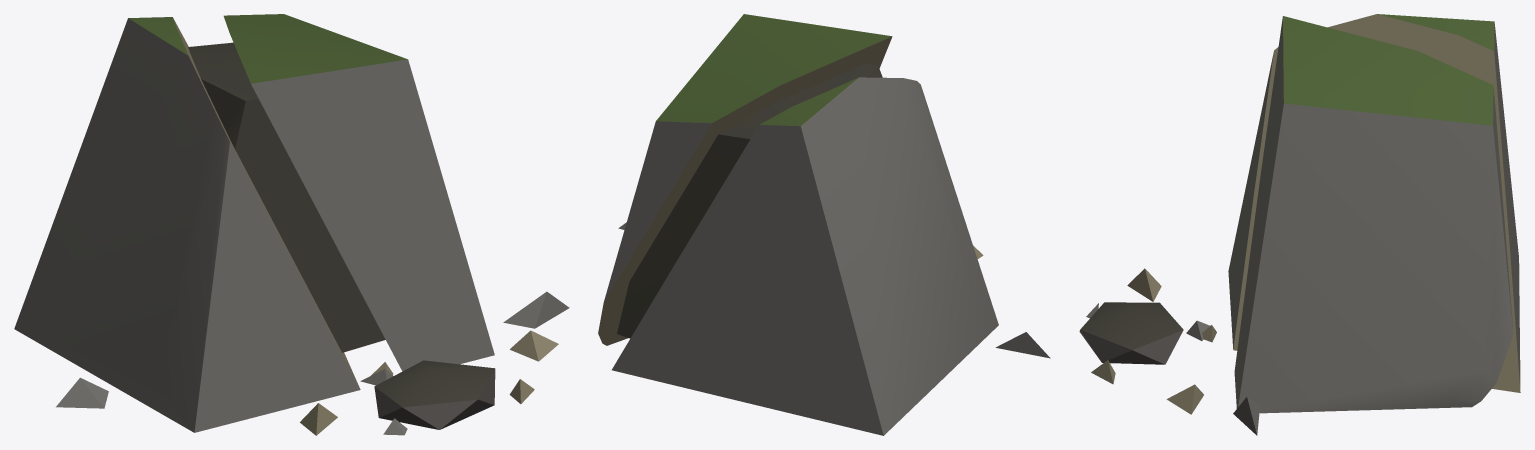
The model's file is MiningBoulderADug.fbx.
3 views of the same model, side by side, from view 1: azimuth 30°, elevation 25°; view 2: azimuth 150°, elevation 25°; view 3: azimuth 270°, elevation 25° (orthographic). The views are drawn at different scales.
Visible parts, largest first — view 1: MiningBoulderADug; view 2: MiningBoulderADug; view 3: MiningBoulderADug.
Boxes of the visible parts, left/top/right/bottom form: MiningBoulderADug: left=14, top=14, right=569, bottom=435; MiningBoulderADug: left=598, top=14, right=1050, bottom=435; MiningBoulderADug: left=1079, top=14, right=1520, bottom=435.
Bounding box in the file's own units: 1.63 × 0.9824 × 1.33.
